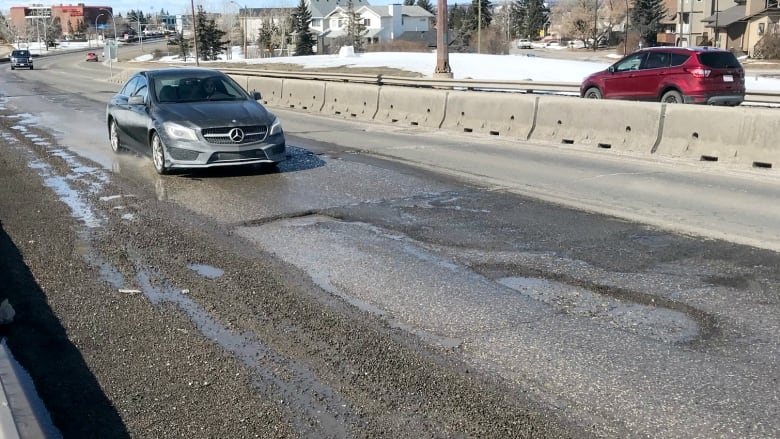pothole: (474, 240, 733, 358), (279, 196, 420, 241)
